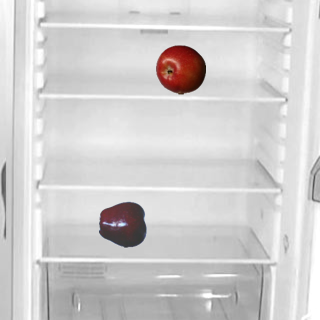Apple Braeburn: (155, 44, 205, 94)
Apple Red Delicious: (98, 199, 148, 249)
